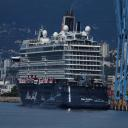cruises: (17, 15, 110, 110)
